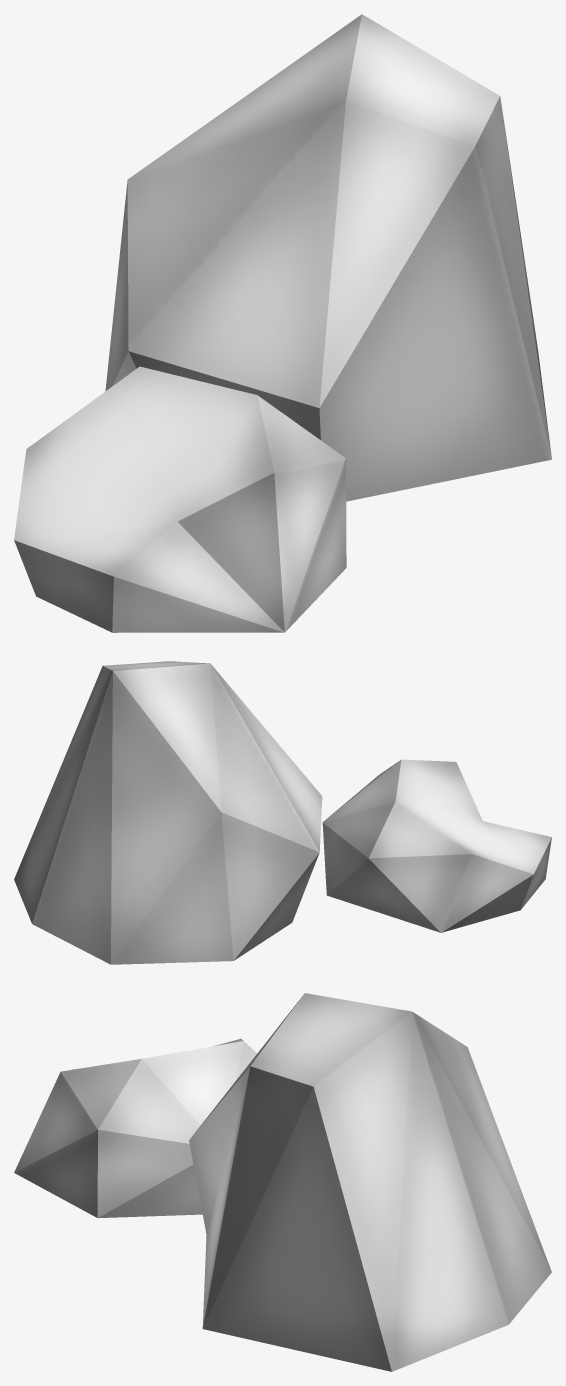
Rendered from p_rock_group01.fbx.
The picture shows the model from 3 angles, top to bottom: view 1: azimuth 30°, elevation 25°; view 2: azimuth 150°, elevation 25°; view 3: azimuth 270°, elevation 25°; orthographic projection. The views are drawn at different scales.
Visible parts, largest first — view 1: p_rock_g01; view 2: p_rock_g01; view 3: p_rock_g01.
Boxes of the visible parts, x1=… form: p_rock_g01: x1=14, y1=14, x2=551, y2=632; p_rock_g01: x1=14, y1=661, x2=551, y2=964; p_rock_g01: x1=14, y1=993, x2=551, y2=1371.
Bounding box in the file's own units: 51.21 × 27.31 × 44.97.
